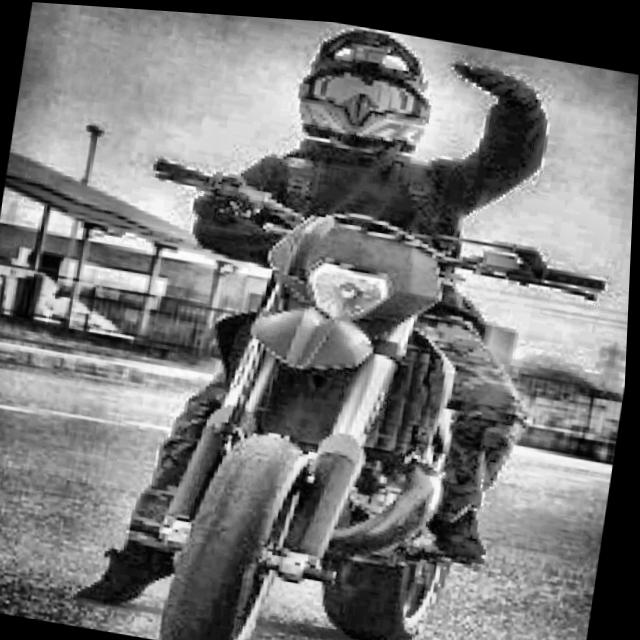motorcycle: (71, 124, 611, 640)
